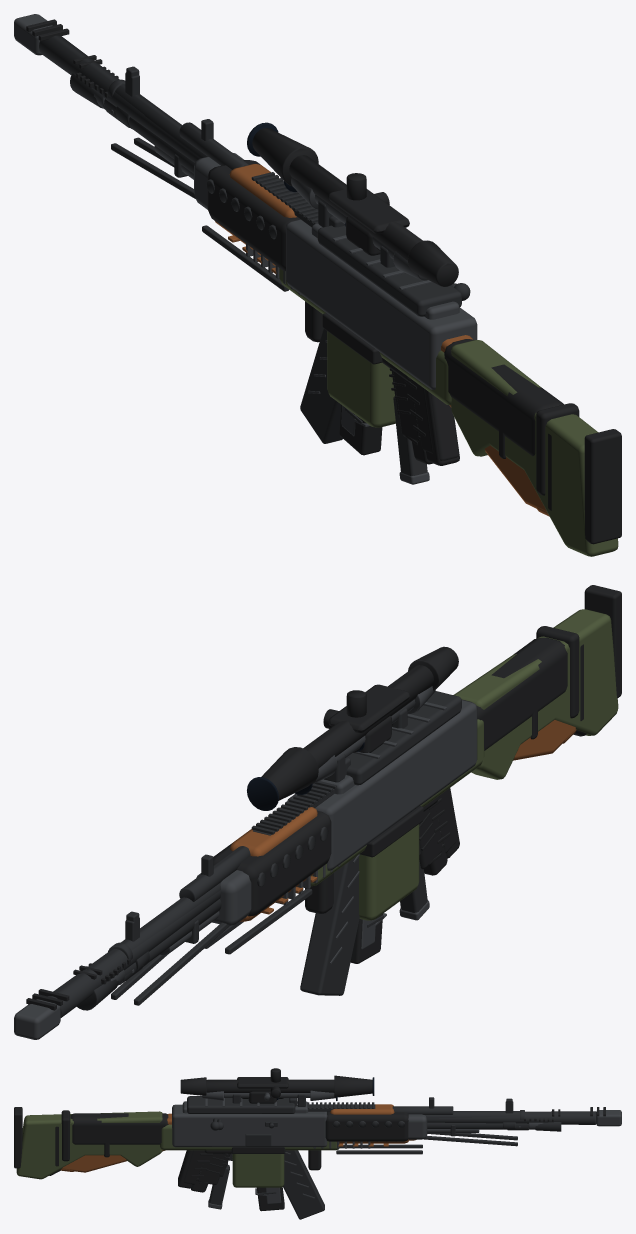
File: weapons.glb
The picture shows the model from 3 angles, top to bottom: view 1: azimuth 30°, elevation 25°; view 2: azimuth 150°, elevation 25°; view 3: azimuth 270°, elevation 25°; orthographic projection. The views are drawn at different scales.
Visible parts, largest first — view 1: lmg, sniper, rifle, carbine, shotgun, scout, mpistol, smg, deagle; view 2: lmg, sniper, rifle, carbine, shotgun, smg, scout, deagle, mpistol; view 3: lmg, sniper, rifle, carbine, shotgun, scout, smg, deagle, mpistol.
Boxes of the visible parts, <box> form: lmg: <box>70,66,579,495</box>; sniper: <box>14,14,621,556</box>; rifle: <box>89,72,549,516</box>; carbine: <box>104,105,433,464</box>; shotgun: <box>107,79,551,511</box>; scout: <box>73,55,459,460</box>; mpistol: <box>391,371,429,484</box>; smg: <box>305,301,505,458</box>; deagle: <box>389,368,419,441</box>; lmg: <box>76,626,579,1010</box>; sniper: <box>14,585,621,1039</box>; rifle: <box>110,729,576,995</box>; carbine: <box>119,716,447,984</box>; shotgun: <box>108,644,583,959</box>; smg: <box>305,686,537,949</box>; scout: <box>73,686,586,979</box>; deagle: <box>419,805,442,869</box>; mpistol: <box>399,844,429,920</box>; lmg: <box>61,1077,561,1187</box>; sniper: <box>14,1068,621,1188</box>; rifle: <box>60,1101,543,1219</box>; carbine: <box>191,1091,528,1211</box>; shotgun: <box>55,1110,524,1172</box>; scout: <box>49,1090,560,1183</box>; smg: <box>104,1128,321,1204</box>; deagle: <box>198,1104,297,1184</box>; mpistol: <box>208,1153,230,1209</box>.
Size of the model in its own units: 0.113 by 0.3755 by 1.4.
